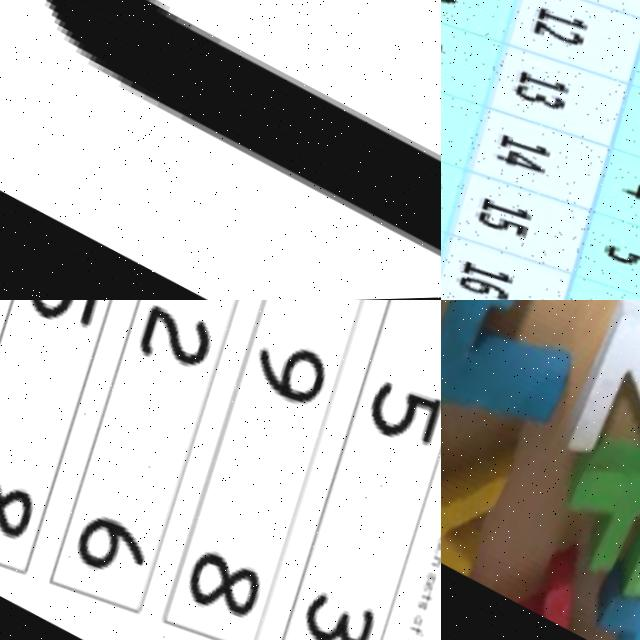1: (466, 183, 542, 243), (503, 59, 574, 113), (525, 0, 598, 51), (449, 249, 518, 300), (489, 125, 555, 175)
2: (116, 300, 227, 392), (522, 10, 596, 69)
3: (277, 575, 385, 640), (500, 72, 579, 135), (625, 105, 640, 165)
4: (478, 134, 563, 200), (615, 174, 640, 226)
5: (343, 366, 441, 470), (1, 300, 117, 356), (461, 199, 536, 259), (590, 233, 640, 291)
6: (51, 494, 162, 598), (441, 261, 513, 300)
8: (156, 531, 276, 640), (0, 452, 45, 562)
9: (225, 317, 346, 434)
F: (522, 425, 640, 603)
J: (441, 300, 619, 450)
P: (567, 536, 640, 640)
U: (0, 0, 441, 284)
X: (441, 387, 528, 581)
Z: (538, 300, 640, 495)
